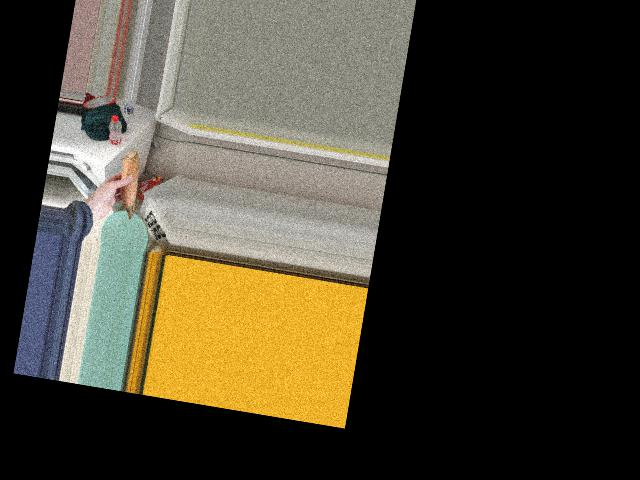sweet_potato: (113, 150, 142, 216)
